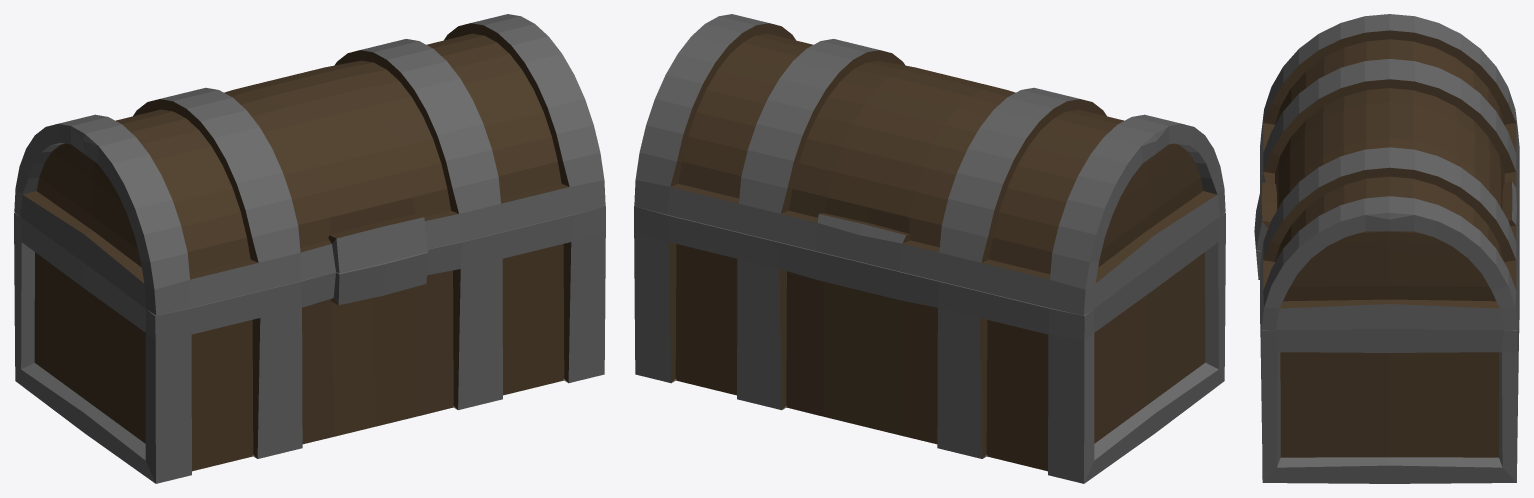
File: Chest.glb
3 views of the same model, side by side, from view 1: azimuth 30°, elevation 25°; view 2: azimuth 150°, elevation 25°; view 3: azimuth 270°, elevation 25° (orthographic). The views are drawn at different scales.
Parts seen in each view (by area): view 1: Lid, Base; view 2: Lid, Base; view 3: Lid, Base.
Boxes of the visible parts, x1,y1,x2,y2 form: Lid: (14,14,605,315); Base: (14,206,605,483); Lid: (634,14,1225,315); Base: (634,206,1225,483); Lid: (1254,14,1519,330); Base: (1254,231,1519,483).
Size of the model in its own units: 0.7899 by 0.501 by 0.4413.
